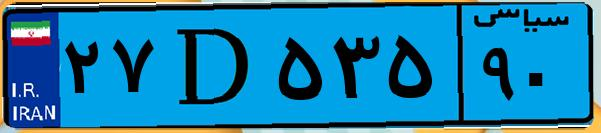0: (525, 38, 570, 115)
2: (57, 26, 110, 100)
3: (330, 28, 385, 110)
5: (270, 28, 330, 110), (385, 28, 445, 110)
7: (110, 28, 158, 98)
9: (475, 38, 525, 113)
D: (158, 12, 270, 120)
